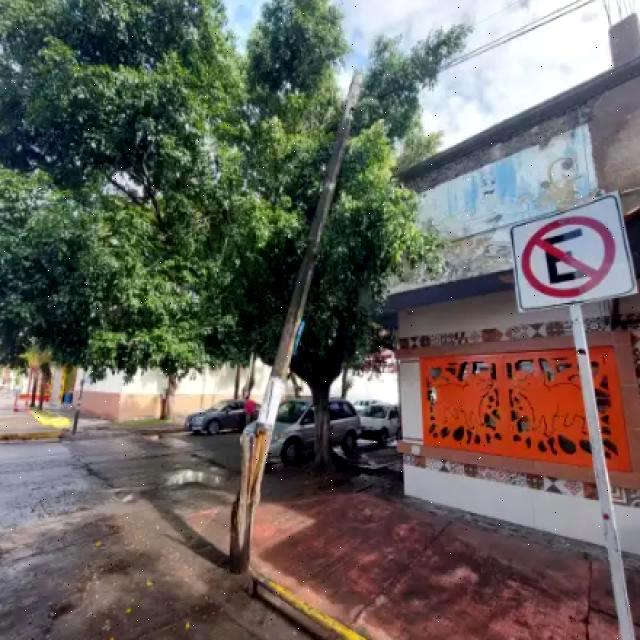Broken Pole: (227, 65, 366, 578)
